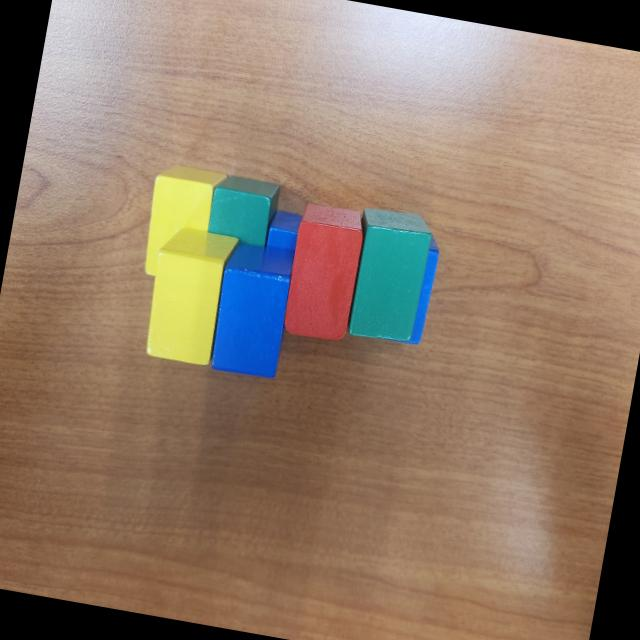blue: (204, 239, 298, 382), (370, 224, 442, 348), (262, 207, 308, 255)
green: (340, 206, 434, 346), (204, 170, 282, 250)
red: (280, 201, 366, 343)
yellow: (139, 222, 241, 369), (137, 161, 227, 286)
